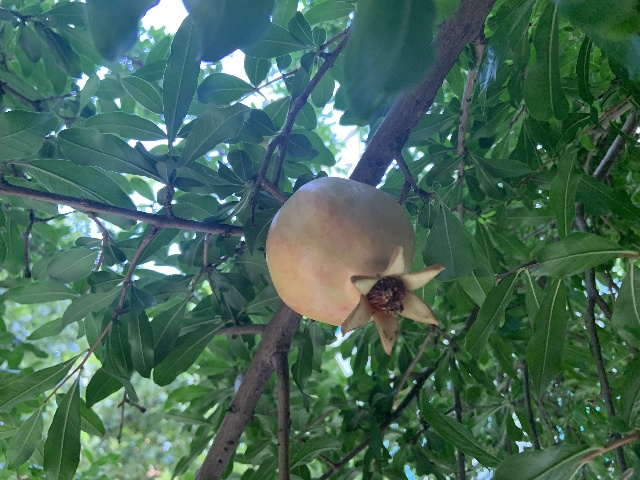mid-growth: (265, 176, 445, 355)
